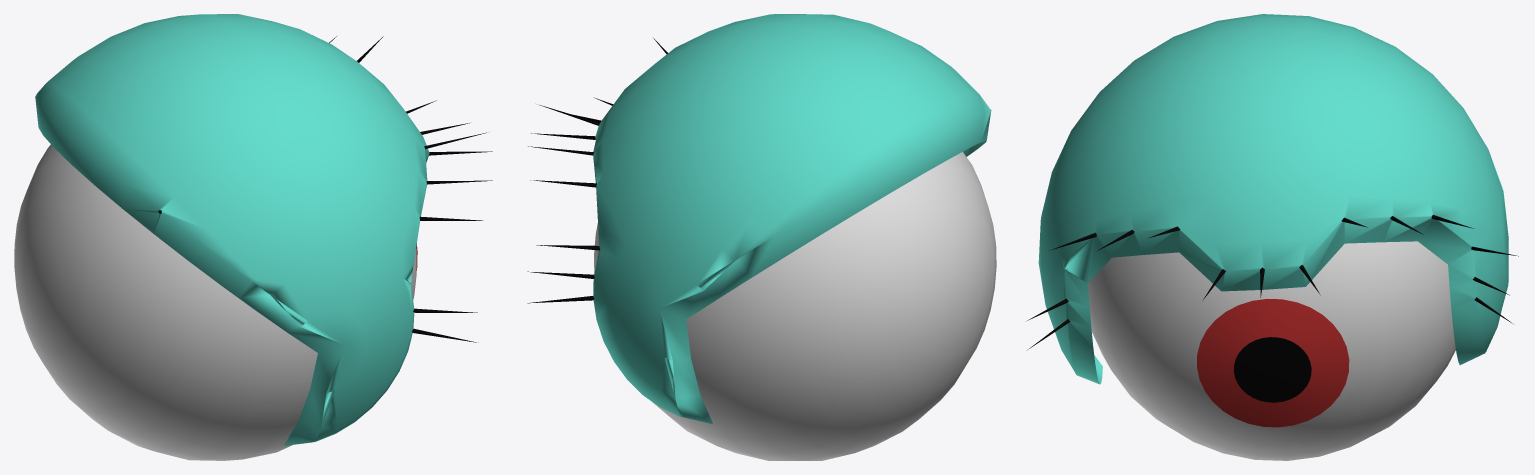
Rendered from Eye_Am_1_Angry_Kid.fbx.
3 views of the same model, side by side, from view 1: azimuth 30°, elevation 25°; view 2: azimuth 150°, elevation 25°; view 3: azimuth 270°, elevation 25° (orthographic).
Parts seen in each view (by area): view 1: Sphere005, Angry eye; view 2: Sphere005, Angry eye; view 3: Sphere005, Angry eye.
Part boxes in pixels (x1,y1,x2,y2): Sphere005: (35, 14, 492, 445); Angry eye: (14, 144, 417, 460); Sphere005: (527, 14, 991, 423); Angry eye: (594, 152, 996, 460); Sphere005: (1027, 14, 1518, 384); Angry eye: (1088, 241, 1455, 460).
Size of the model in its own units: 72.92 by 67.11 by 74.74.
